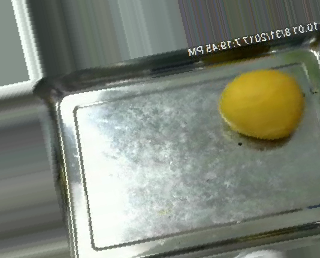Mango: (219, 70, 304, 138)
